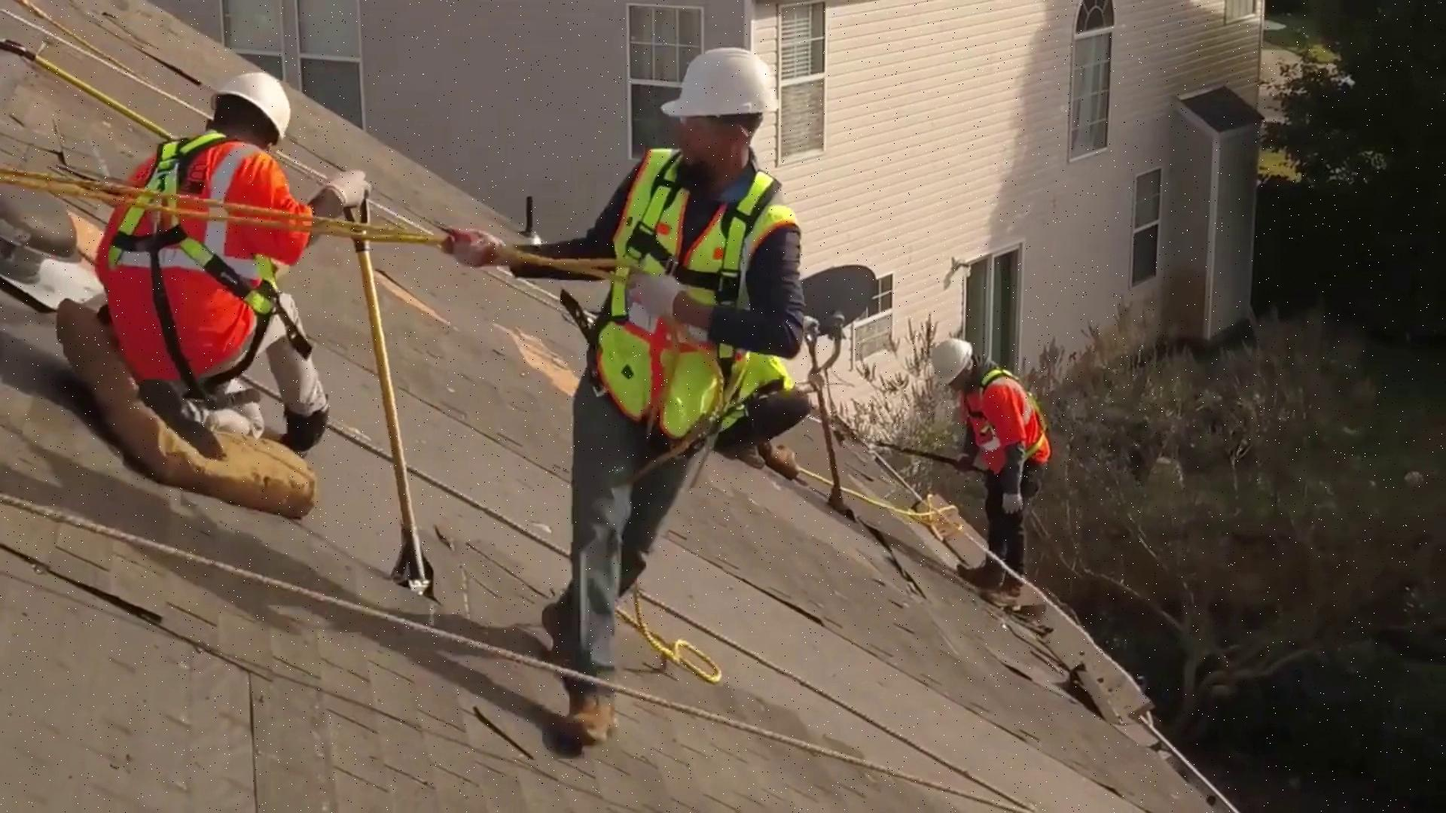Hard_hat: (659, 44, 784, 120), (208, 62, 295, 145), (924, 329, 979, 388)
Vest: (571, 157, 795, 416), (115, 142, 281, 371), (963, 373, 1060, 479)
